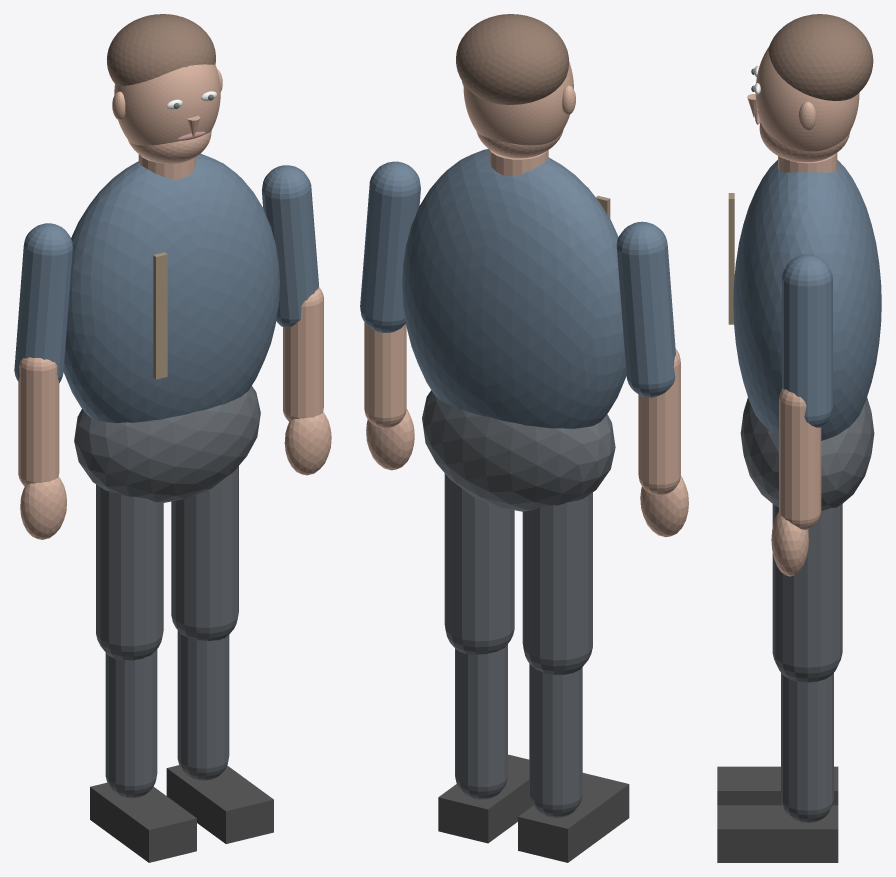
Rendered from council-guide-human-v1.glb.
3 renders of one model, left to right at view 1: azimuth 30°, elevation 25°; view 2: azimuth 150°, elevation 25°; view 3: azimuth 270°, elevation 25°, orthographic. The views are drawn at different scales.
Visible parts, largest first — view 1: guide-torso, guide-pelvis, guide-thigh-left, guide-thigh-right, guide-calf-right, guide-calf-left, guide-upper-arm-left, guide-upper-arm-right, guide-head, guide-shoe-left, guide-hair-cap, guide-shoe-right (+7 smaller); view 2: guide-torso, guide-pelvis, guide-thigh-left, guide-thigh-right, guide-upper-arm-left, guide-hair-cap, guide-calf-left, guide-calf-right, guide-upper-arm-right, guide-shoe-left, guide-shoe-right, guide-forearm-left (+6 smaller); view 3: guide-torso, guide-thigh-right, guide-upper-arm-right, guide-calf-right, guide-hair-cap, guide-shoe-right, guide-pelvis, guide-head, guide-forearm-right, guide-shoe-left, guide-hand-right, guide-jaw (+3 smaller).
Boxes of the visible parts, bbox=[...] form: guide-torso: bbox=[63, 153, 279, 422]; guide-pelvis: bbox=[74, 386, 260, 502]; guide-thigh-left: bbox=[96, 484, 163, 660]; guide-thigh-right: bbox=[171, 466, 238, 640]; guide-calf-right: bbox=[177, 630, 229, 780]; guide-calf-left: bbox=[105, 649, 157, 797]; guide-upper-arm-left: bbox=[14, 223, 72, 382]; guide-upper-arm-right: bbox=[262, 165, 318, 327]; guide-head: bbox=[114, 64, 220, 145]; guide-shoe-left: bbox=[90, 782, 196, 862]; guide-hair-cap: bbox=[106, 14, 215, 85]; guide-shoe-right: bbox=[166, 765, 273, 843]; guide-torso: bbox=[402, 149, 626, 428]; guide-pelvis: bbox=[422, 390, 615, 511]; guide-thigh-left: bbox=[522, 492, 592, 674]; guide-thigh-right: bbox=[444, 473, 514, 654]; guide-upper-arm-left: bbox=[616, 221, 675, 397]; guide-hair-cap: bbox=[456, 14, 568, 104]; guide-calf-left: bbox=[529, 663, 582, 817]; guide-calf-right: bbox=[455, 644, 507, 799]; guide-upper-arm-right: bbox=[360, 161, 420, 332]; guide-shoe-left: bbox=[518, 773, 629, 862]; guide-shoe-right: bbox=[438, 754, 532, 843]; guide-forearm-left: bbox=[638, 349, 680, 495]; guide-torso: bbox=[733, 160, 881, 440]; guide-thigh-right: bbox=[772, 503, 842, 682]; guide-upper-arm-right: bbox=[782, 254, 832, 427]; guide-calf-right: bbox=[781, 673, 833, 822]; guide-hair-cap: bbox=[768, 14, 873, 100]; guide-shoe-right: bbox=[717, 805, 838, 862]; guide-pelvis: bbox=[740, 397, 874, 510]; guide-head: bbox=[755, 47, 859, 151]; guide-forearm-right: bbox=[779, 388, 821, 529]; guide-shoe-left: bbox=[717, 766, 838, 805]; guide-hand-right: bbox=[771, 511, 808, 576]; guide-jaw: bbox=[759, 122, 850, 162].
Size of the model in its own units: 0.7438 by 1.83 by 0.3358.
